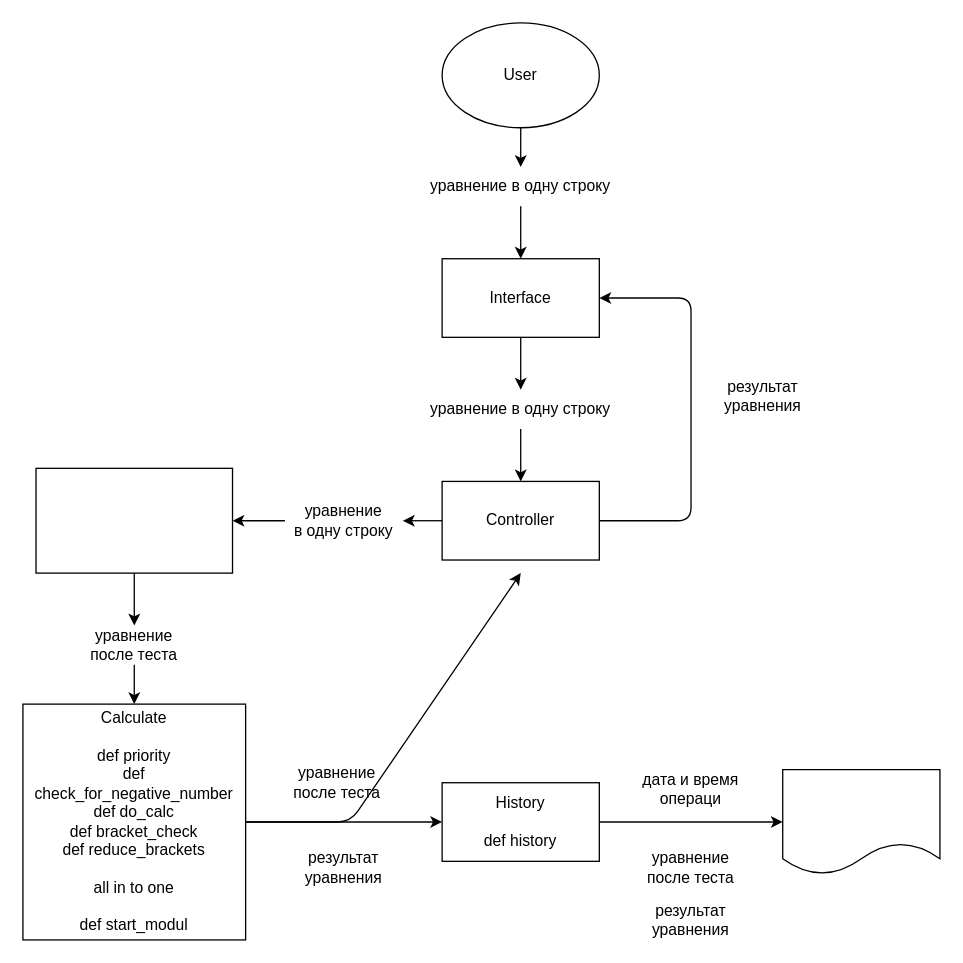
Image size: 963x963. Some labels were removed from this diagram. The box of each missing label's shape, as (x1, y1, x2, y2) in pixels:
Checks def check_for_user_input def check_for_logic: (35, 467, 233, 573)
file.txt: (781, 768, 940, 874)
